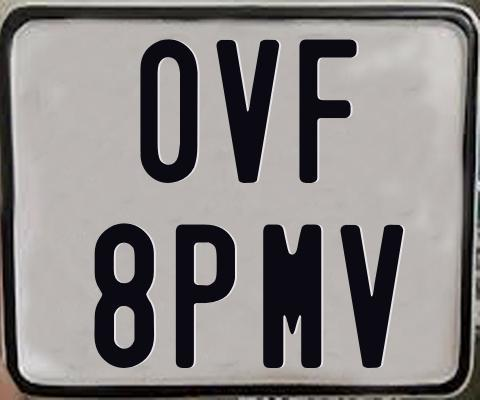0: (140, 38, 204, 184)
8: (91, 221, 156, 368)
F: (296, 39, 358, 187)
M: (260, 221, 321, 367)
P: (174, 221, 234, 368)
V: (215, 37, 284, 180), (340, 222, 408, 365)
